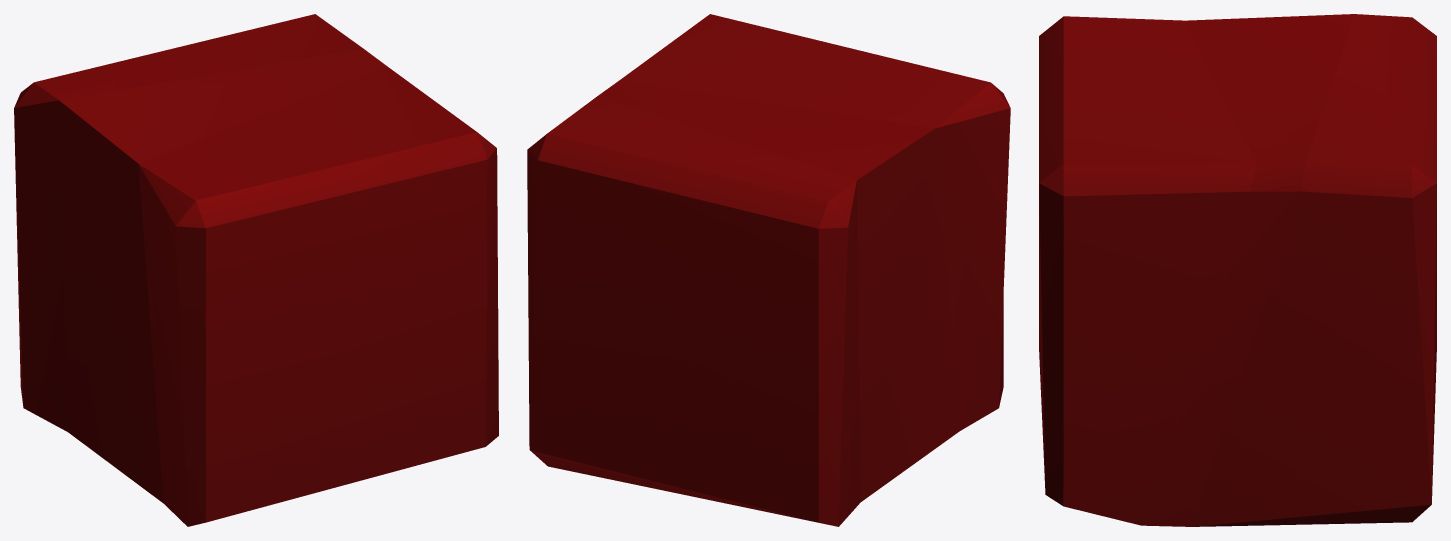
The model's file is geology-carvedstone-stoneblock_v6.fbx.
3 views of the same model, side by side, from view 1: azimuth 30°, elevation 25°; view 2: azimuth 150°, elevation 25°; view 3: azimuth 270°, elevation 25° (orthographic). The views are drawn at different scales.
Visible parts, largest first — view 1: StoneBlock_v6; view 2: StoneBlock_v6; view 3: StoneBlock_v6.
Boxes of the visible parts, x1,y1,x2,y2 form: StoneBlock_v6: (14,14,498,526); StoneBlock_v6: (527,14,1010,526); StoneBlock_v6: (1039,14,1436,526).
Bounding box in the file's own units: 3.01 × 2.98 × 2.98.
